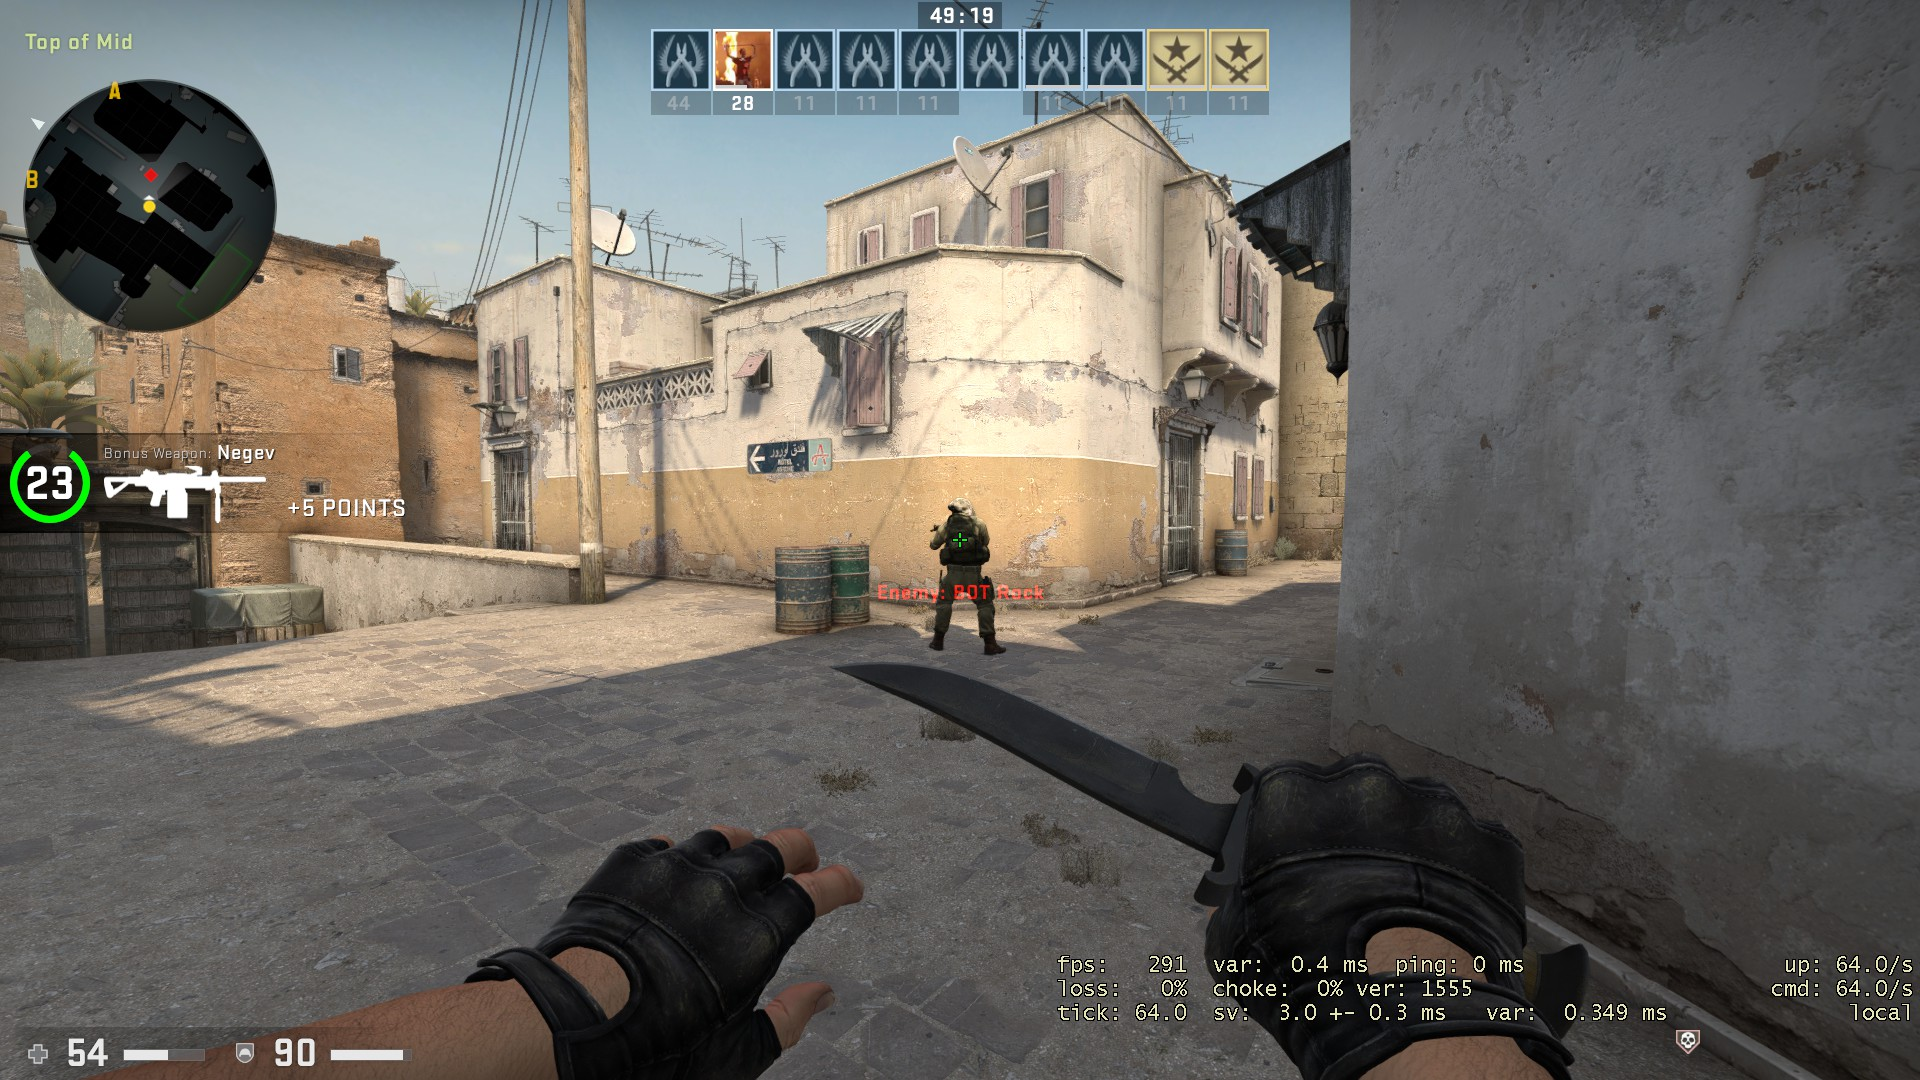player: (923, 491, 1013, 659)
